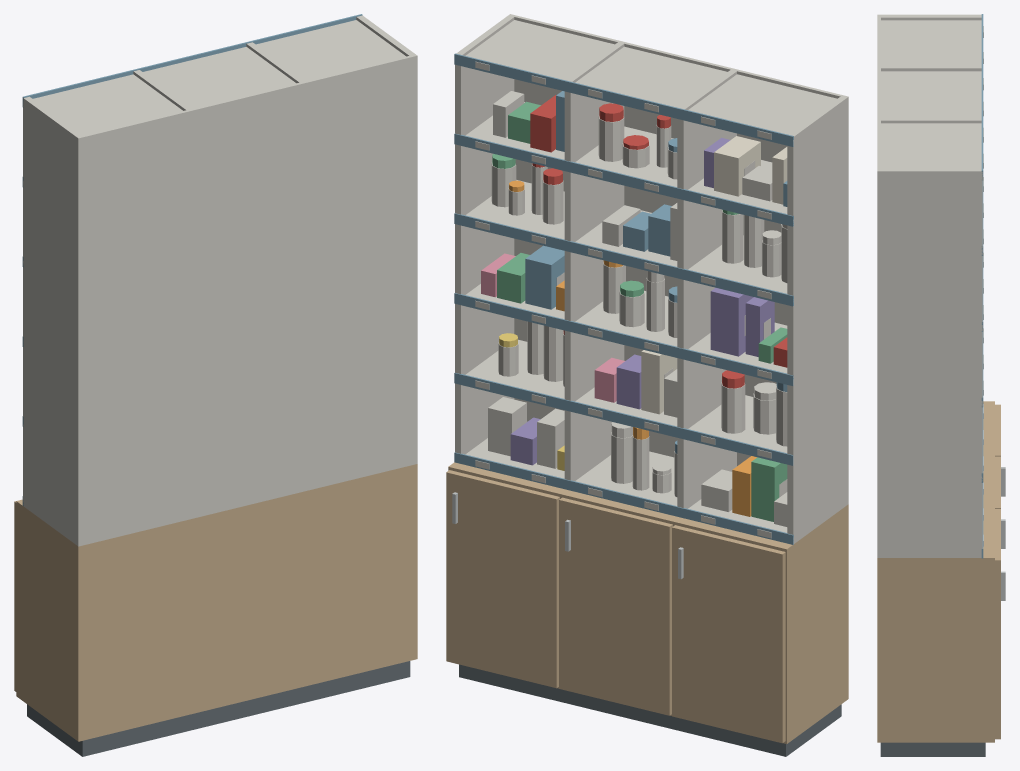
File: pharmacy_shelf.fbx
3 renders of one model, left to right at view 1: azimuth 30°, elevation 25°; view 2: azimuth 150°, elevation 25°; view 3: azimuth 270°, elevation 25°, orthographic. The views are drawn at different scales.
Parts seen in each view (by area): view 1: pharmacy_shelf; view 2: pharmacy_shelf; view 3: pharmacy_shelf.
Part boxes in pixels (left/top/right/bottom): pharmacy_shelf: left=14, top=14, right=417, bottom=756; pharmacy_shelf: left=446, top=14, right=848, bottom=756; pharmacy_shelf: left=877, top=14, right=1005, bottom=756.
Bounding box in the file's own units: 120 × 210 × 41.45.
